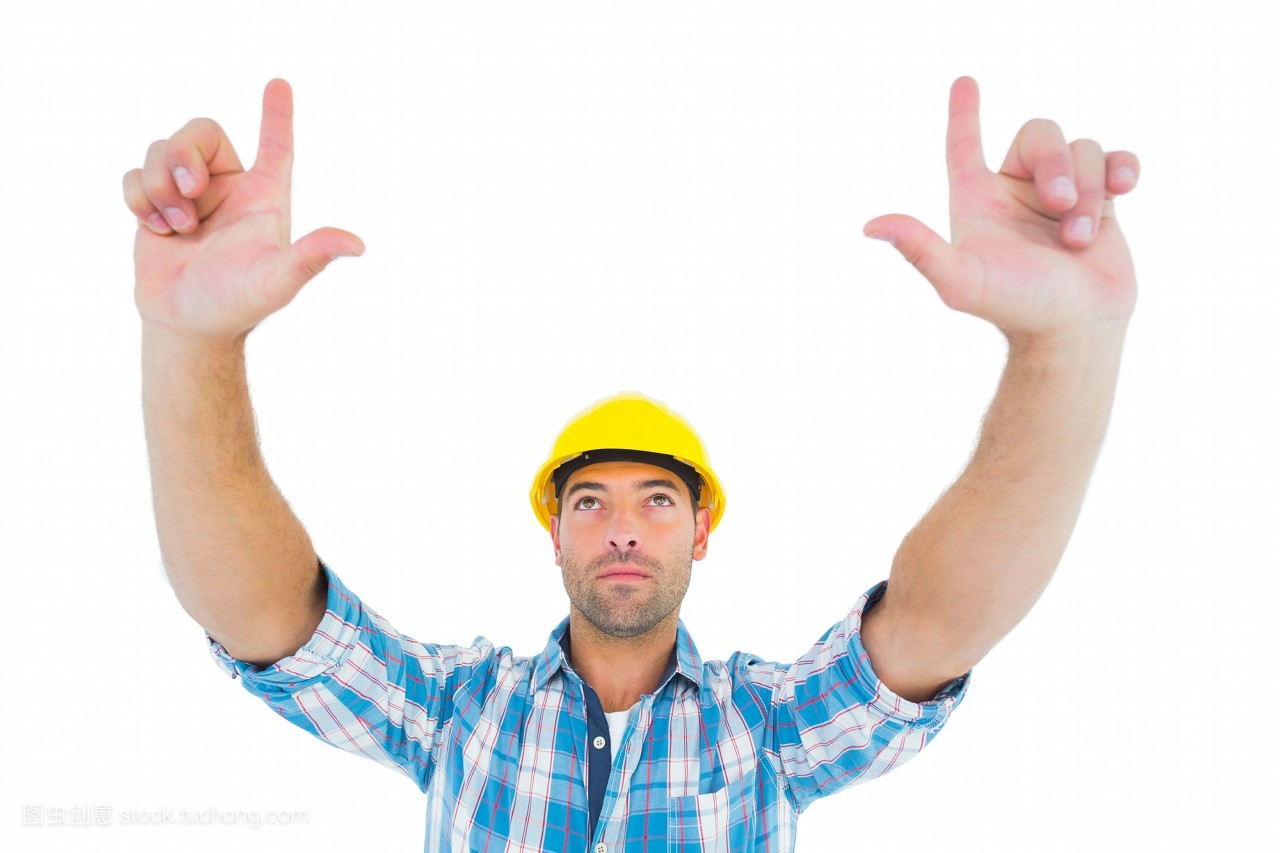handsup: (110, 60, 1175, 851)
